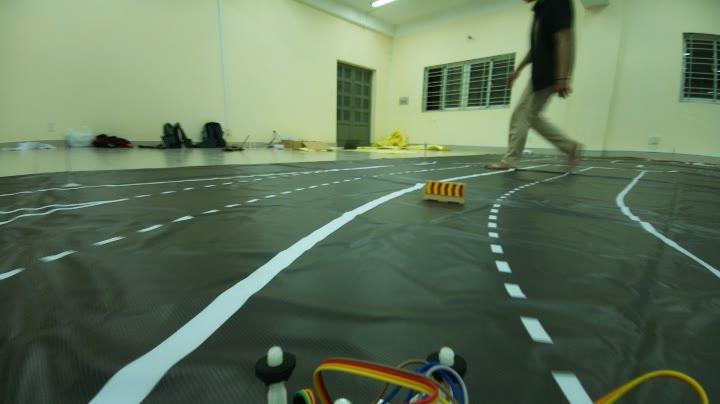roadblock: (420, 172, 476, 209)
